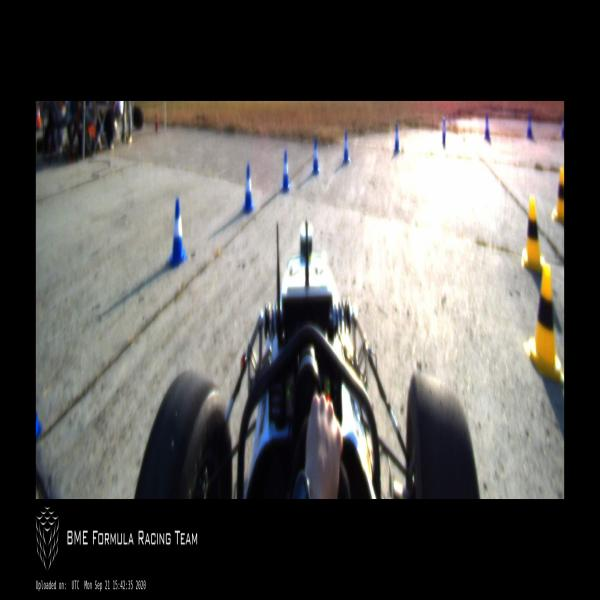blue_cone: (167, 198, 187, 268), (242, 163, 256, 215), (280, 150, 291, 193), (311, 139, 320, 175), (342, 131, 350, 163), (393, 123, 401, 154), (484, 114, 491, 140), (441, 116, 447, 146), (526, 113, 532, 139), (560, 112, 564, 138)
yellow_cone: (523, 264, 564, 382), (521, 196, 545, 274), (551, 166, 564, 222)
